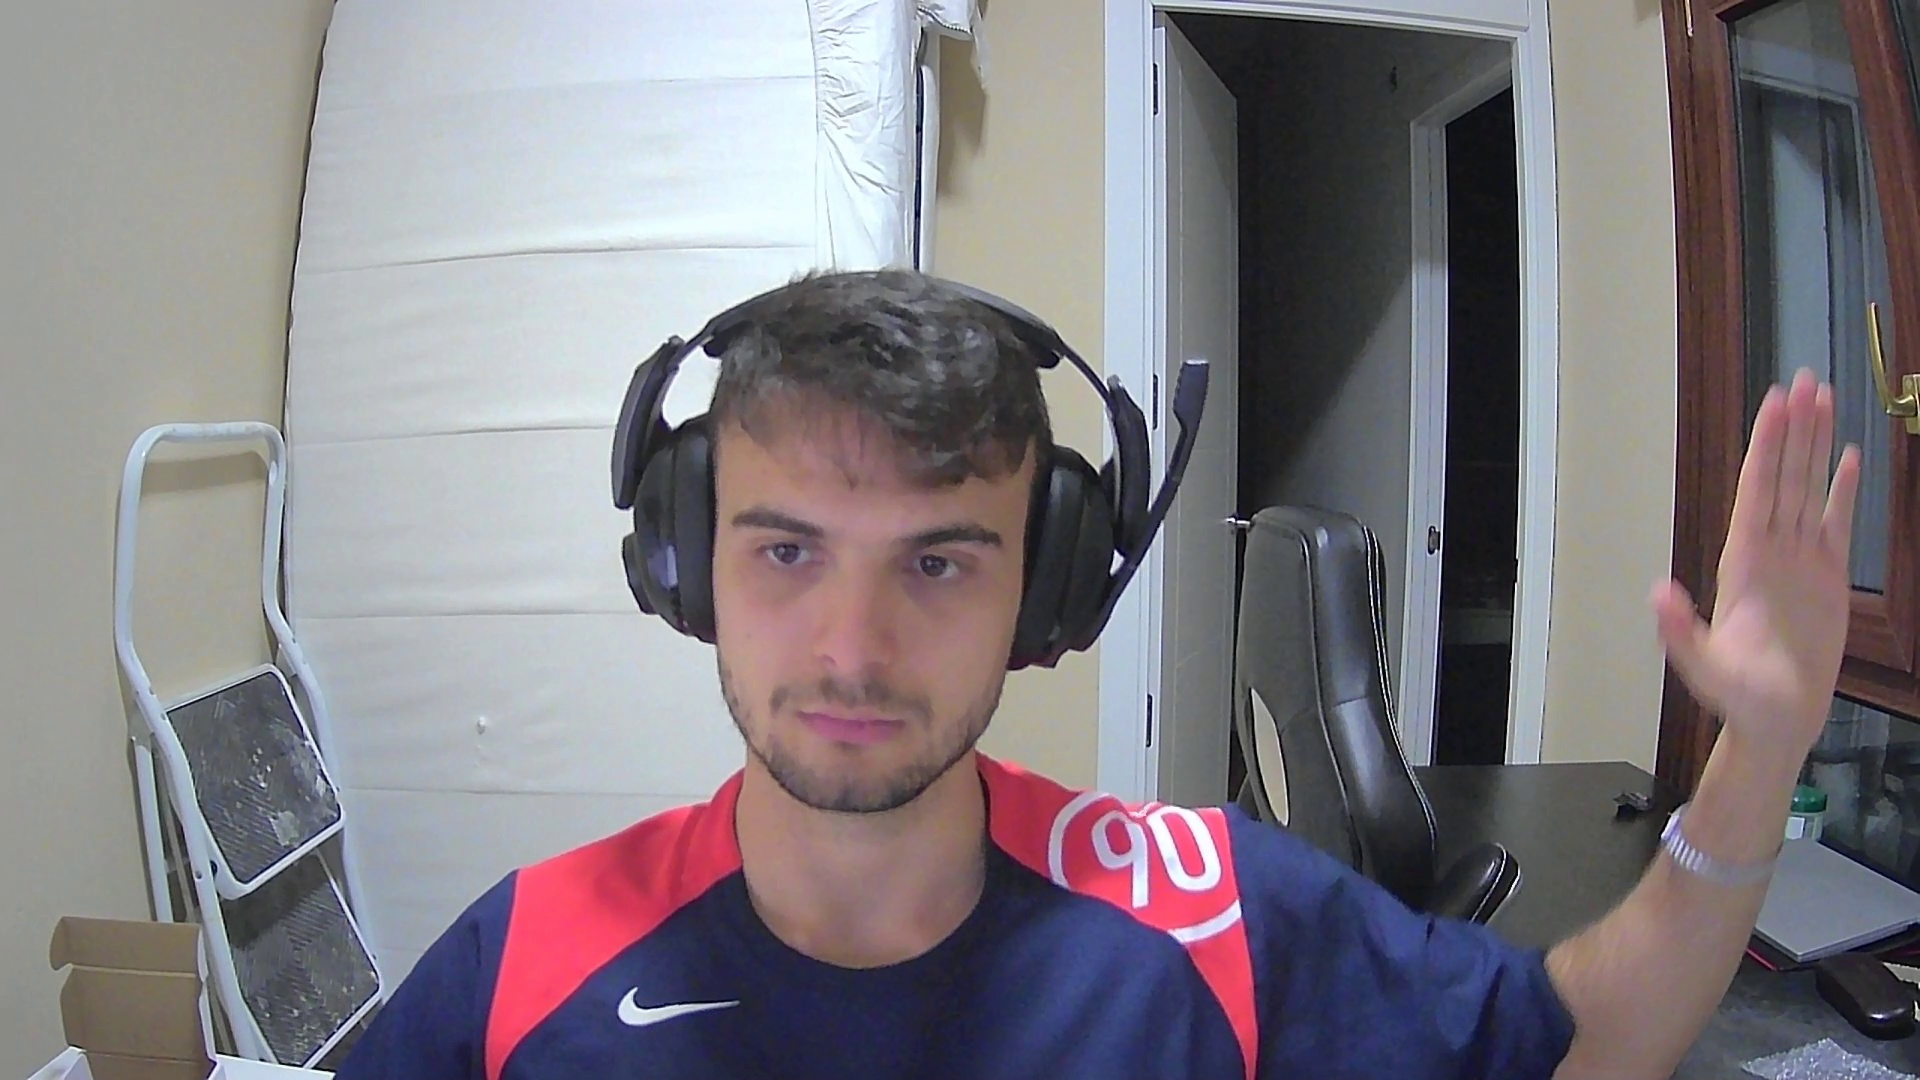Palm: (1643, 367, 1865, 789)
